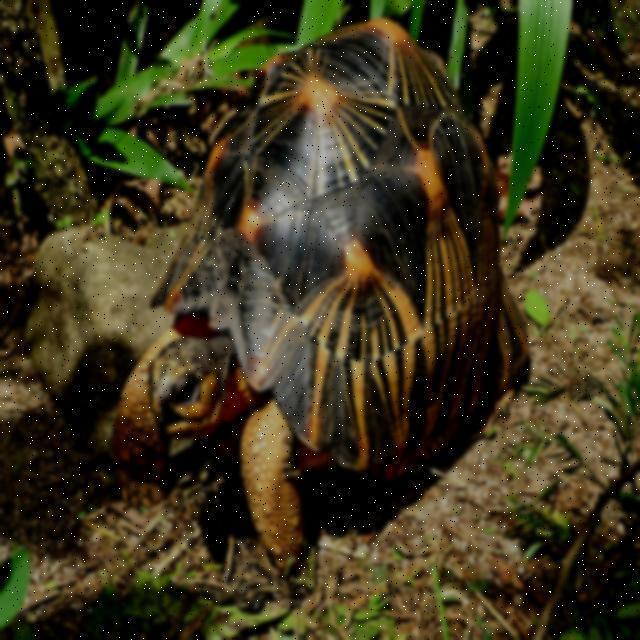tortoise: (115, 9, 529, 573)
